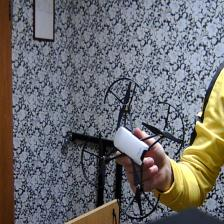drone: (80, 74, 188, 220)
